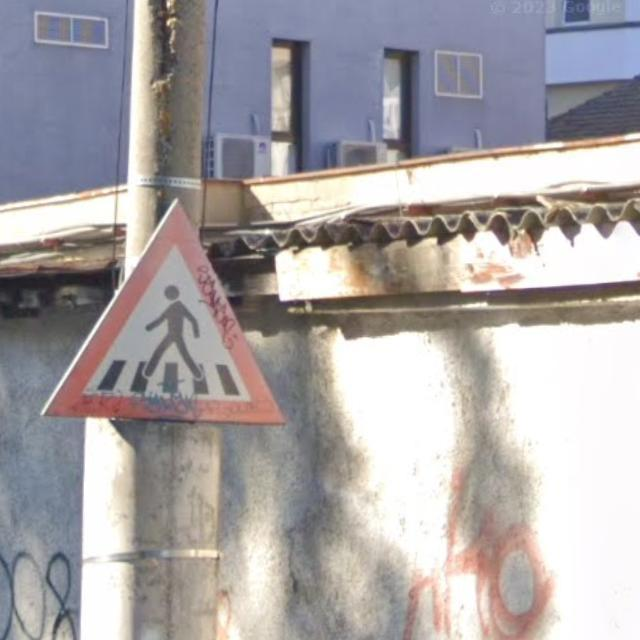warn_crosswalk: (39, 199, 287, 425)
